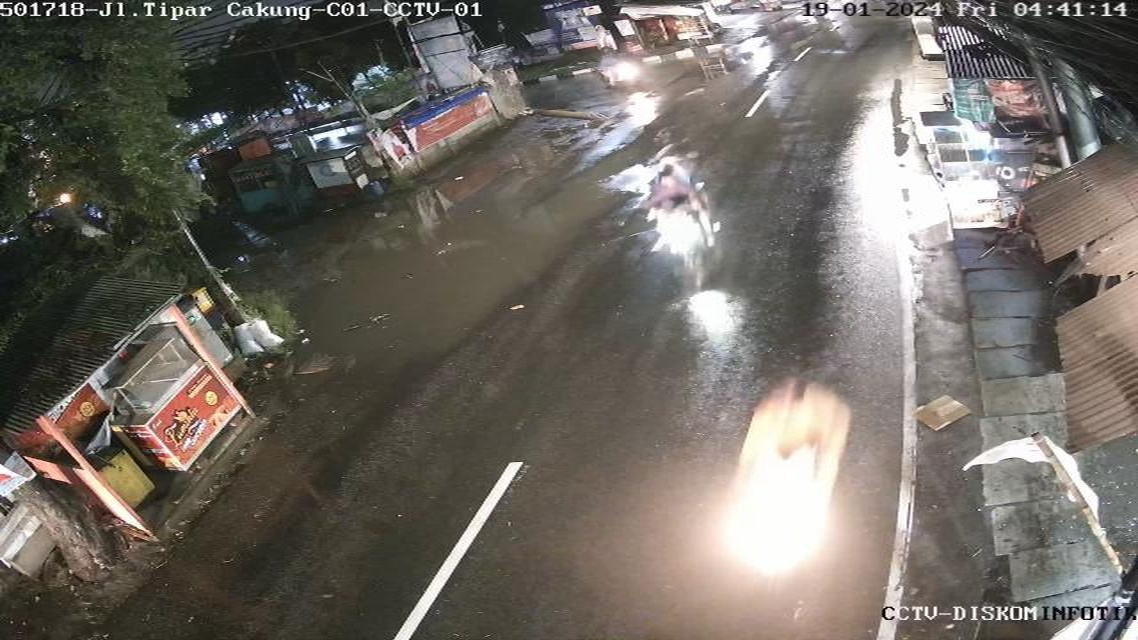Gerobak: (359, 10, 541, 180), (73, 346, 258, 486), (910, 101, 1034, 248), (219, 135, 299, 226), (290, 139, 393, 208)
